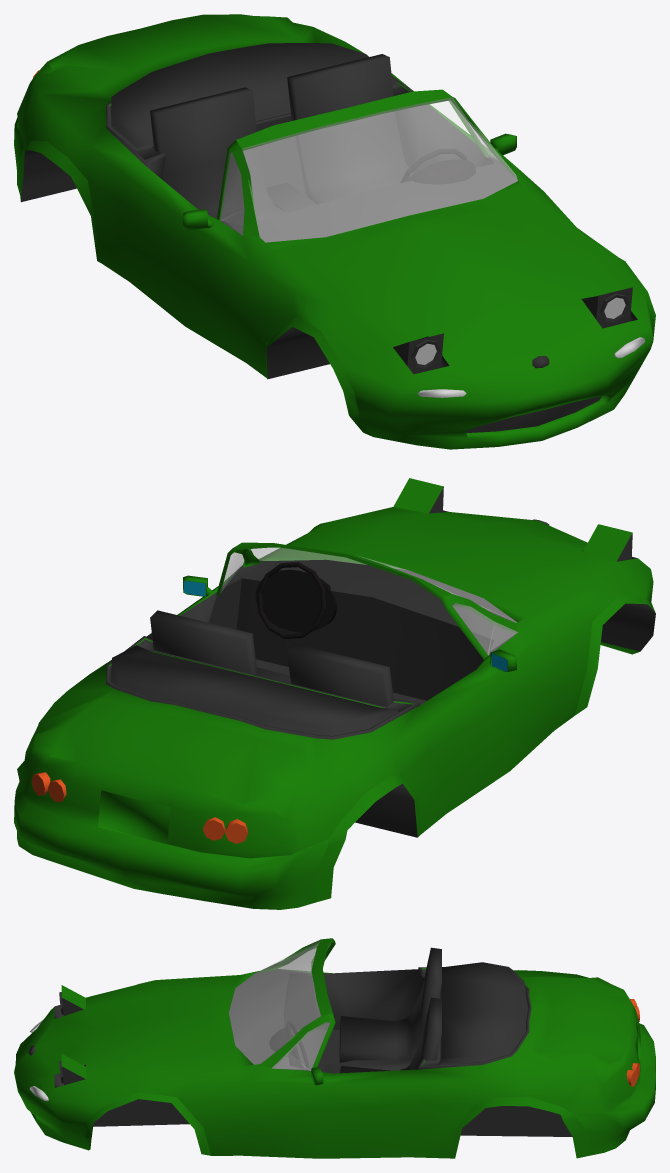
Rendered from mazda.glb.
The picture shows the model from 3 angles, top to bottom: view 1: azimuth 30°, elevation 25°; view 2: azimuth 150°, elevation 25°; view 3: azimuth 270°, elevation 25°; orthographic projection. The views are drawn at different scales.
Visible parts, largest first — view 1: Cube.001, Cube.002_Cube.001, Cube.002, Sphere; view 2: Cube.001, Sphere, Cube.003_Cube.002, Cube.002_Cube.001, Cube.002, Torus.001; view 3: Cube.001, Cube.002, Cube.002_Cube.001, Sphere, Torus.001.
Part boxes in pixels (x1=…): Cube.001: x1=14, y1=14, x2=655, y2=449; Cube.002_Cube.001: x1=393, y1=333, x2=443, y2=374; Cube.002: x1=583, y1=287, x2=632, y2=328; Sphere: x1=404, y1=159, x2=475, y2=184; Cube.001: x1=14, y1=507, x2=655, y2=909; Sphere: x1=255, y1=569, x2=337, y2=632; Cube.003_Cube.002: x1=31, y1=772, x2=248, y2=843; Cube.002_Cube.001: x1=583, y1=524, x2=632, y2=561; Cube.002: x1=393, y1=478, x2=443, y2=513; Torus.001: x1=257, y1=562, x2=326, y2=638; Cube.001: x1=14, y1=938, x2=655, y2=1158; Cube.002: x1=59, y1=1054, x2=85, y2=1085; Cube.002_Cube.001: x1=59, y1=985, x2=85, y2=1015; Sphere: x1=269, y1=1027, x2=299, y2=1067; Torus.001: x1=286, y1=1021, x2=309, y2=1070.
Bounding box in the file's own units: 1.78 × 0.9517 × 3.91.
